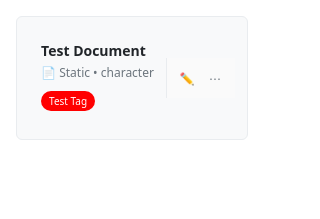
Test case: DocumentListItem › shows menu button and opens dropdown on click
Click menu button
Click the button titled "More actions" at (215, 78), box [203,66,227,90]
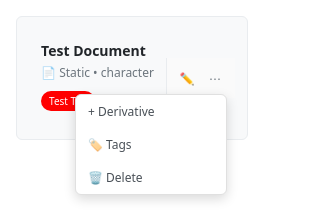
Expected: the button "+ Derivative" is shown, [76,95,226,128]
Expected: the button "🏷️ Tags" is shown, [76,128,226,161]
Expected: the button "🗑️ Delete" is shown, [76,161,226,194]
